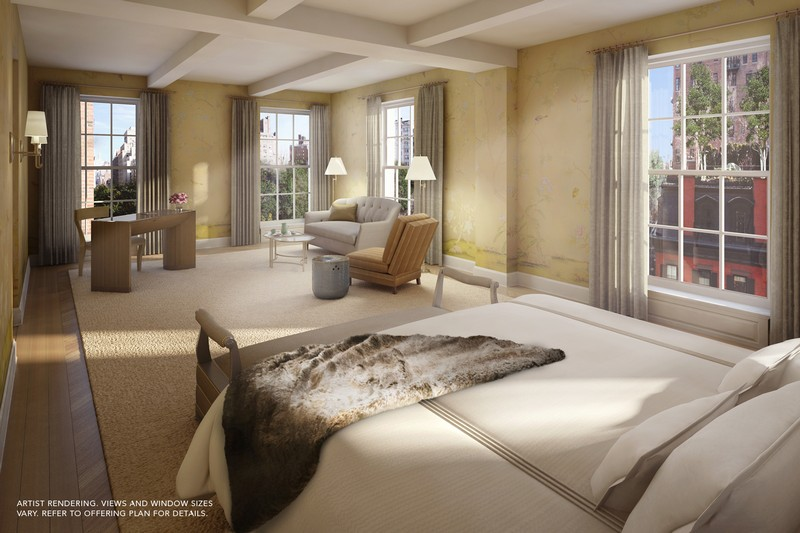bed: (191, 295, 796, 527)
chair: (74, 206, 147, 279)
lamp: (407, 156, 435, 224), (325, 156, 348, 203)
sofa: (303, 194, 400, 265), (355, 221, 434, 291)
stool: (266, 219, 315, 273), (309, 253, 357, 301)
table: (93, 211, 198, 293)
